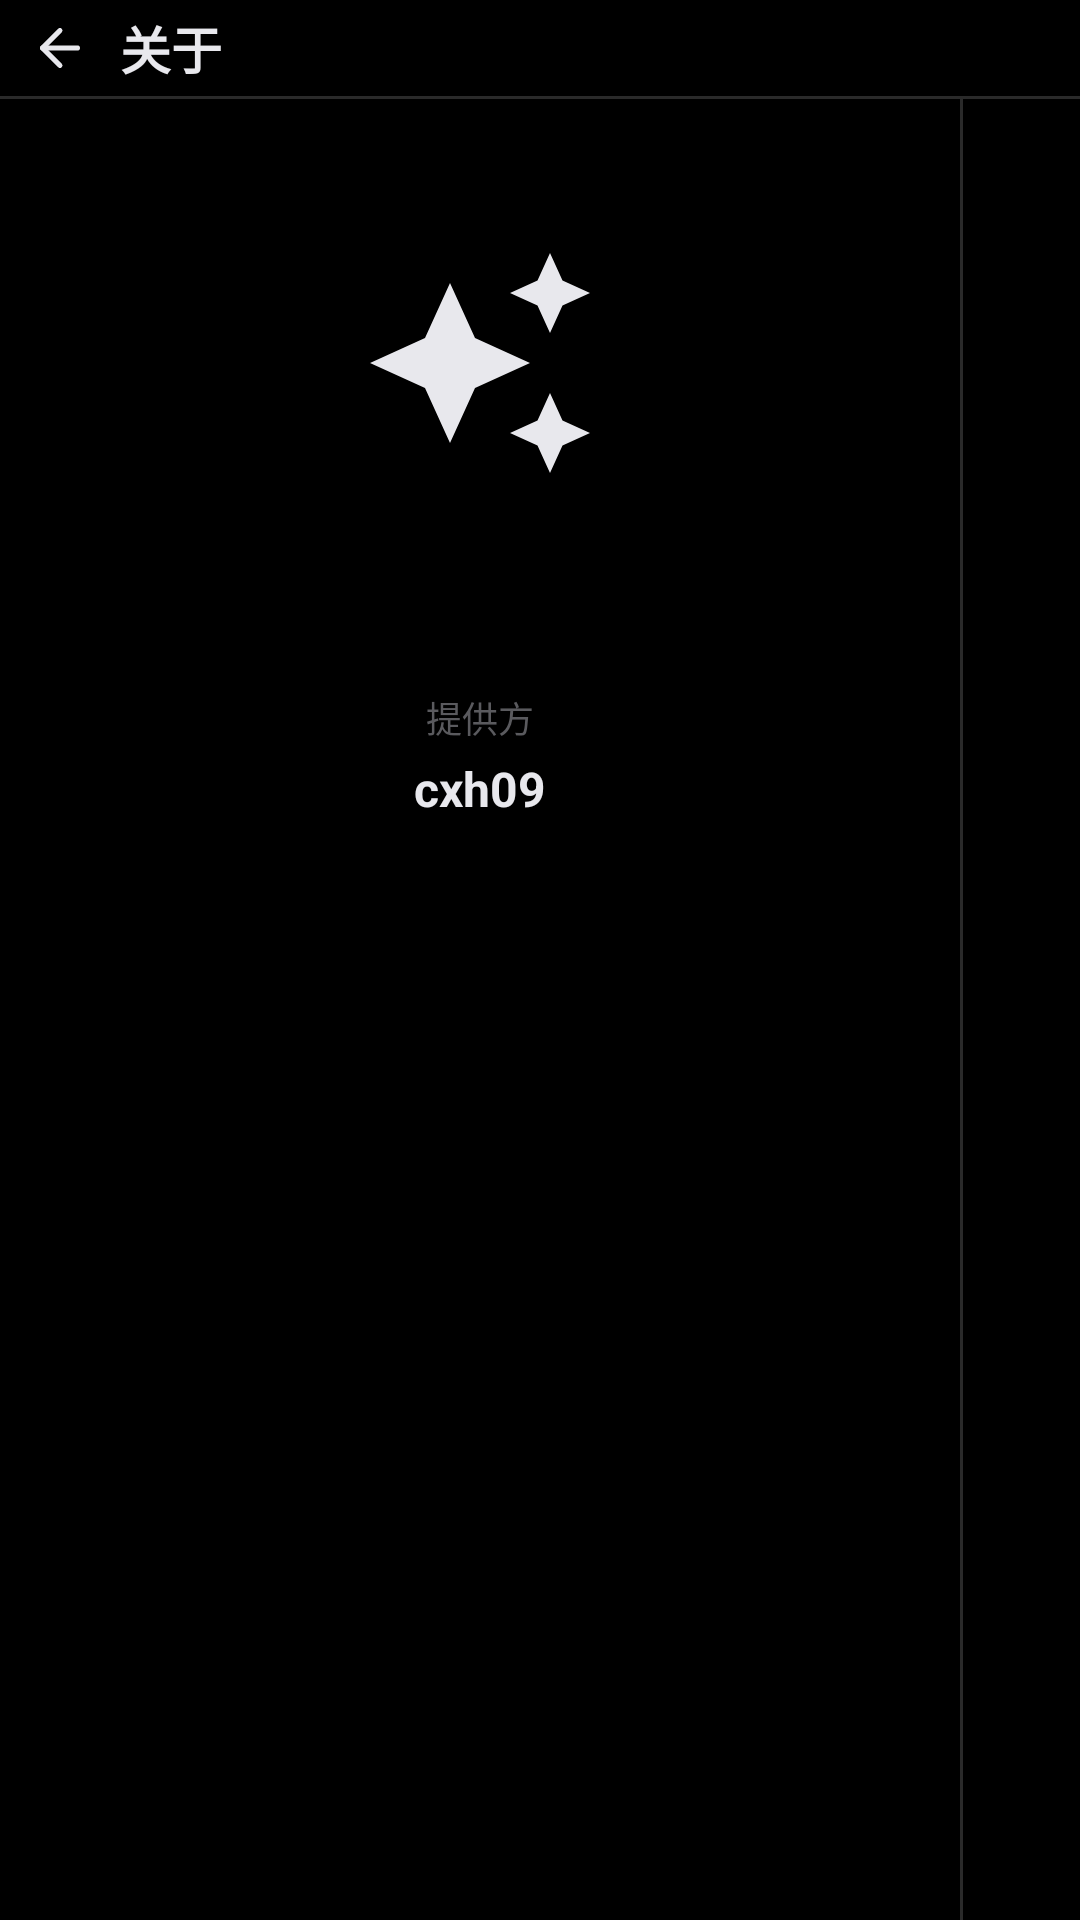

Where icons sit on this 1080×1920 app screen, as (x1, y1, x2, y2):
返回: (40, 28, 80, 68)
